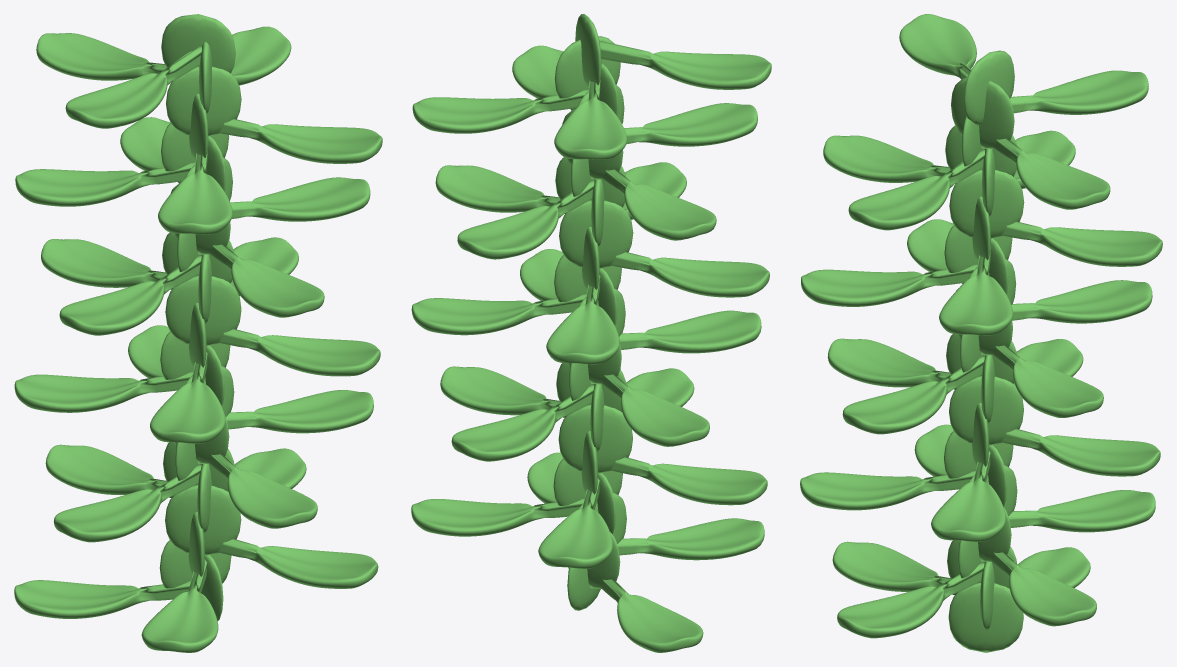
The model's file is Plant3_Medium.fbx.
3 renders of one model, left to right at view 1: azimuth 30°, elevation 25°; view 2: azimuth 150°, elevation 25°; view 3: azimuth 270°, elevation 25°, orthographic. The views are drawn at different scales.
Visible parts, largest first — view 1: Circle; view 2: Circle; view 3: Circle.
Boxes of the visible parts, bbox=[...] form: Circle: bbox=[14, 14, 382, 652]; Circle: bbox=[411, 14, 771, 652]; Circle: bbox=[800, 14, 1162, 652].
Size of the model in its own units: 818 by 1489 by 817.
